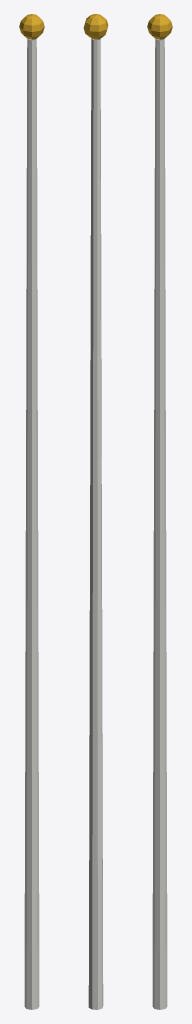
File: flagpole.obj
3 views of the same model, side by side, from view 1: azimuth 90°, elevation 25°; view 2: azimuth 150°, elevation 25°; view 3: azimuth 270°, elevation 25° (orthographic).
Parts seen in each view (by area): view 1: Flagpole_Pole, Flagpole_Ball; view 2: Flagpole_Pole, Flagpole_Ball; view 3: Flagpole_Pole, Flagpole_Ball.
Part boxes in pixels (x1,y1,x2,y2): Flagpole_Pole: [24, 38, 39, 1009]; Flagpole_Ball: [19, 14, 44, 39]; Flagpole_Pole: [88, 38, 103, 1009]; Flagpole_Ball: [83, 14, 108, 39]; Flagpole_Pole: [152, 38, 167, 1009]; Flagpole_Ball: [147, 14, 172, 39].
Bounding box in the file's own units: 0.24 × 10.24 × 0.24.
2 materials, 2 textured.
